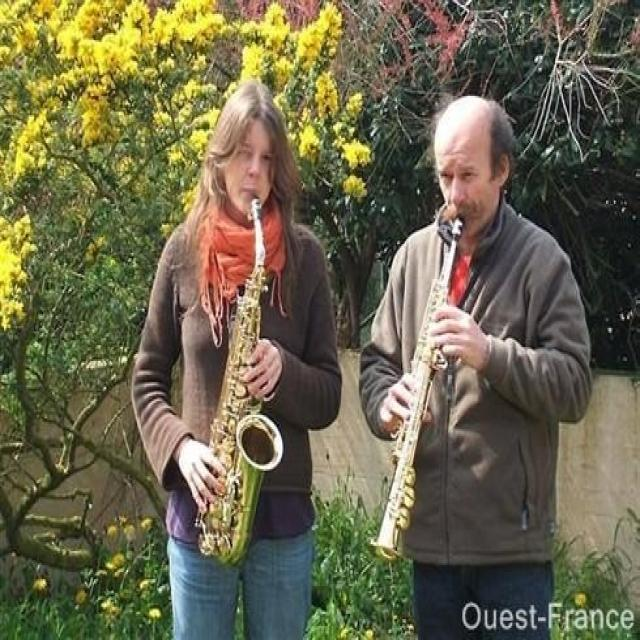clarinet: (368, 213, 469, 569)
saxophone: (196, 196, 287, 568)
